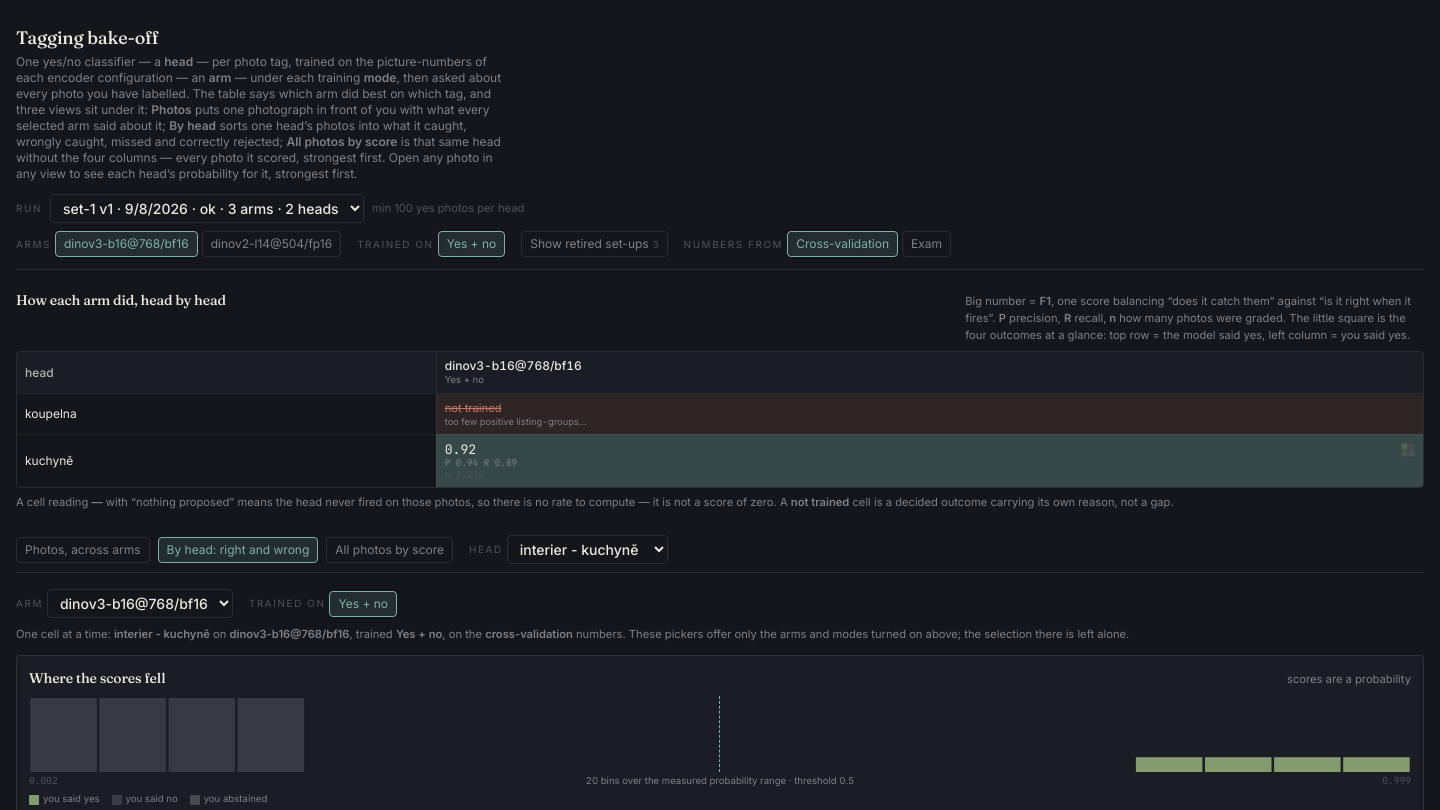
Test: <NewDedupTaggingBakeoff> — view B, one head’s buckets › shows the abstained count beside the split only on the exam
Check: the element with test id "histogram" is shown, box [29, 696, 1411, 807]
Click the button with test id "split-exam" at coordinates (926, 244), box [902, 231, 951, 257]
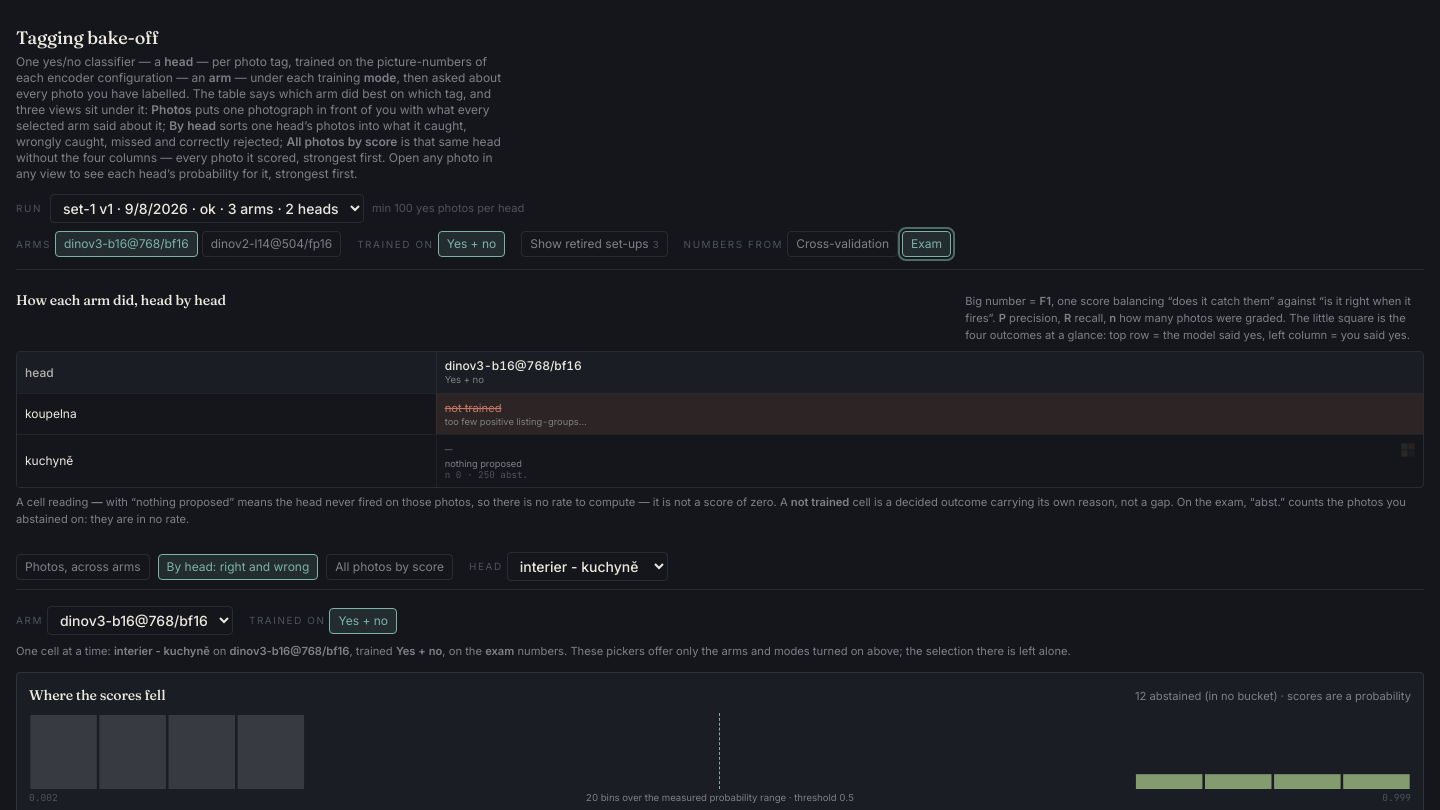
Check: the element with test id "abstained-count" shows "12 abstained", box [1135, 689, 1287, 703]
